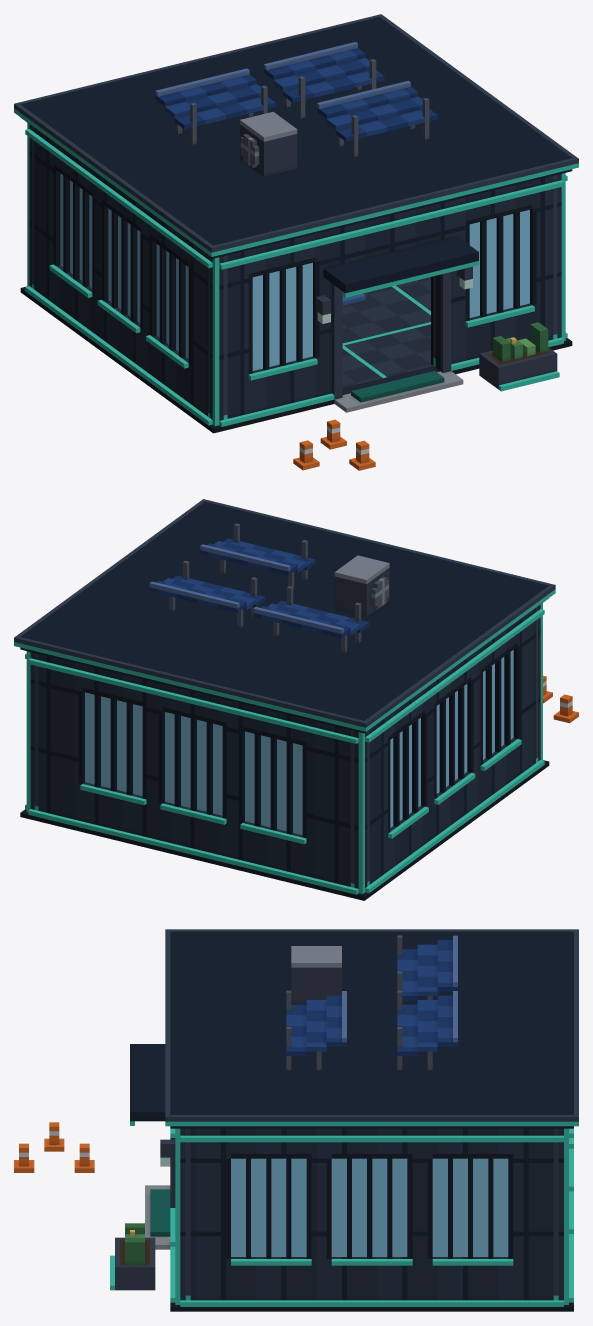
Rendered from training_e4_l1.glb.
The picture shows the model from 3 angles, top to bottom: view 1: azimuth 30°, elevation 25°; view 2: azimuth 150°, elevation 25°; view 3: azimuth 270°, elevation 25°; orthographic projection. The views are drawn at different scales.
Parts seen in each view (by area): view 1: CutRoof, CutPZ, Base, CutNX, CutNZ; view 2: CutRoof, CutNZ, Base, CutNX, CutPZ; view 3: CutRoof, CutPX, Base, CutPZ, CutNZ.
Part boxes in pixels (left/top/right/bottom): CutRoof: left=14, top=14, right=578, bottom=258; CutPZ: left=208, top=173, right=565, bottom=386; Base: left=20, top=250, right=572, bottom=470; CutNX: left=25, top=128, right=212, bottom=381; CutNZ: left=27, top=123, right=34, bottom=254; CutRoof: left=14, top=499, right=555, bottom=733; CutNZ: left=26, top=651, right=369, bottom=856; Base: left=20, top=675, right=578, bottom=900; CutNX: left=365, top=608, right=544, bottom=850; CutPZ: left=536, top=603, right=542, bottom=729; CutRoof: left=165, top=929, right=578, bottom=1128; CutPX: left=180, top=1128, right=563, bottom=1265; Base: left=14, top=1122, right=573, bottom=1311; CutPZ: left=130, top=1044, right=190, bottom=1263; CutNZ: left=553, top=1128, right=573, bottom=1263.
Size of the model in its own units: 8.8 by 5.2 by 11.2.
